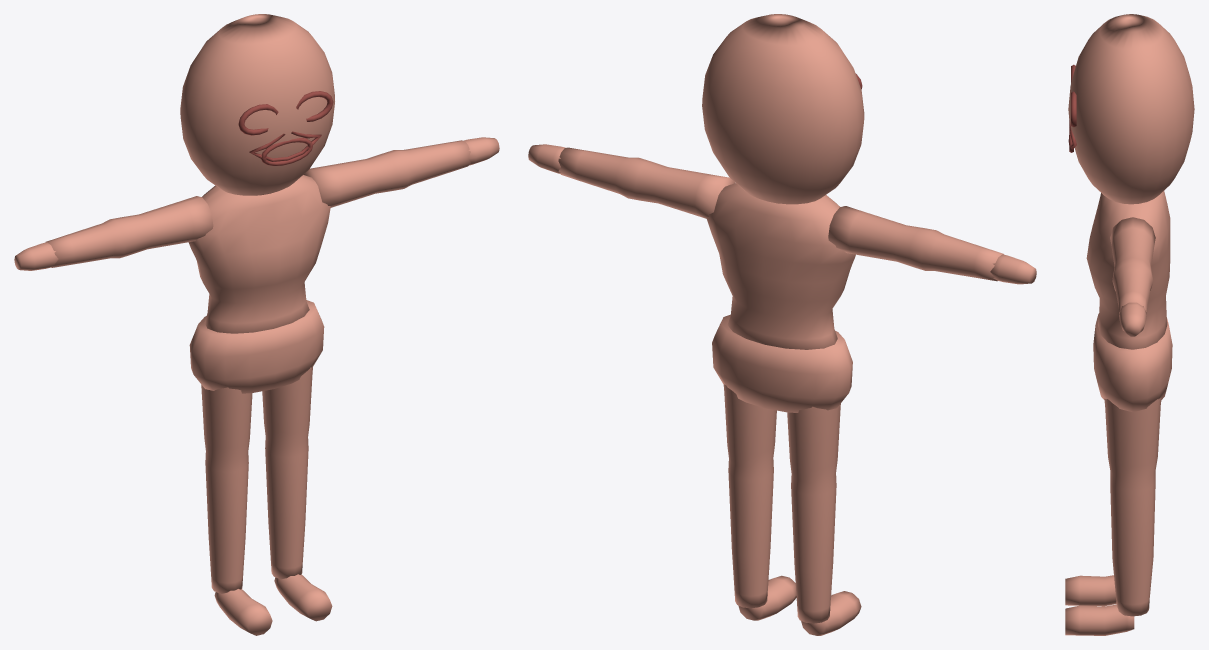
The model's file is anime_female_base_v01.glb.
The picture shows the model from 3 angles, left to right: view 1: azimuth 30°, elevation 25°; view 2: azimuth 150°, elevation 25°; view 3: azimuth 270°, elevation 25°; orthographic projection. The views are drawn at different scales.
Parts seen in each view (by area): view 1: AnimeFemale_Head, AnimeFemale_Torso, AnimeFemale_Leg_L, AnimeFemale_Leg_R, AnimeFemale_Pelvis, AnimeFemale_Arm_L, AnimeFemale_Arm_R, AnimeFemale_Foot_L, AnimeFemale_Foot_R, AnimeFemale_Hand_L, AnimeFemale_Face_EyeLoops_Mirror, AnimeFemale_Hand_R; view 2: AnimeFemale_Head, AnimeFemale_Torso, AnimeFemale_Leg_L, AnimeFemale_Leg_R, AnimeFemale_Pelvis, AnimeFemale_Arm_L, AnimeFemale_Arm_R, AnimeFemale_Foot_L, AnimeFemale_Foot_R, AnimeFemale_Hand_L, AnimeFemale_Hand_R; view 3: AnimeFemale_Head, AnimeFemale_Leg_R, AnimeFemale_Torso, AnimeFemale_Pelvis, AnimeFemale_Arm_R, AnimeFemale_Foot_R, AnimeFemale_Foot_L, AnimeFemale_Hand_R, AnimeFemale_Face_EyeLoops_Mirror.
Part boxes in pixels (<box>): AnimeFemale_Head: <box>180,14,334,195</box>; AnimeFemale_Torso: <box>188,175,330,333</box>; AnimeFemale_Leg_L: <box>201,385,252,593</box>; AnimeFemale_Leg_R: <box>262,367,312,579</box>; AnimeFemale_Pelvis: <box>189,300,324,393</box>; AnimeFemale_Arm_L: <box>45,196,213,267</box>; AnimeFemale_Arm_R: <box>303,140,470,207</box>; AnimeFemale_Foot_L: <box>214,589,272,635</box>; AnimeFemale_Foot_R: <box>274,574,332,621</box>; AnimeFemale_Hand_L: <box>14,242,58,270</box>; AnimeFemale_Face_EyeLoops_Mirror: <box>238,91,333,135</box>; AnimeFemale_Hand_R: <box>464,137,499,165</box>; AnimeFemale_Head: <box>702,14,864,204</box>; AnimeFemale_Torso: <box>706,183,855,349</box>; AnimeFemale_Leg_L: <box>787,403,840,623</box>; AnimeFemale_Leg_R: <box>723,384,776,608</box>; AnimeFemale_Pelvis: <box>712,314,852,412</box>; AnimeFemale_Arm_L: <box>828,206,1003,281</box>; AnimeFemale_Arm_R: <box>558,147,735,218</box>; AnimeFemale_Foot_L: <box>801,591,861,635</box>; AnimeFemale_Foot_R: <box>738,575,796,620</box>; AnimeFemale_Hand_L: <box>990,254,1036,284</box>; AnimeFemale_Hand_R: <box>528,144,565,173</box>; AnimeFemale_Head: <box>1068,14,1194,204</box>; AnimeFemale_Leg_R: <box>1104,397,1161,616</box>; AnimeFemale_Torso: <box>1086,191,1170,349</box>; AnimeFemale_Pelvis: <box>1093,313,1172,412</box>; AnimeFemale_Arm_R: <box>1110,217,1155,311</box>; AnimeFemale_Foot_R: <box>1065,604,1134,635</box>; AnimeFemale_Foot_L: <box>1065,575,1116,606</box>; AnimeFemale_Hand_R: <box>1119,302,1146,336</box>; AnimeFemale_Face_EyeLoops_Mirror: <box>1071,64,1076,127</box>.
Size of the model in its own units: 7.68 by 9 by 1.76.
